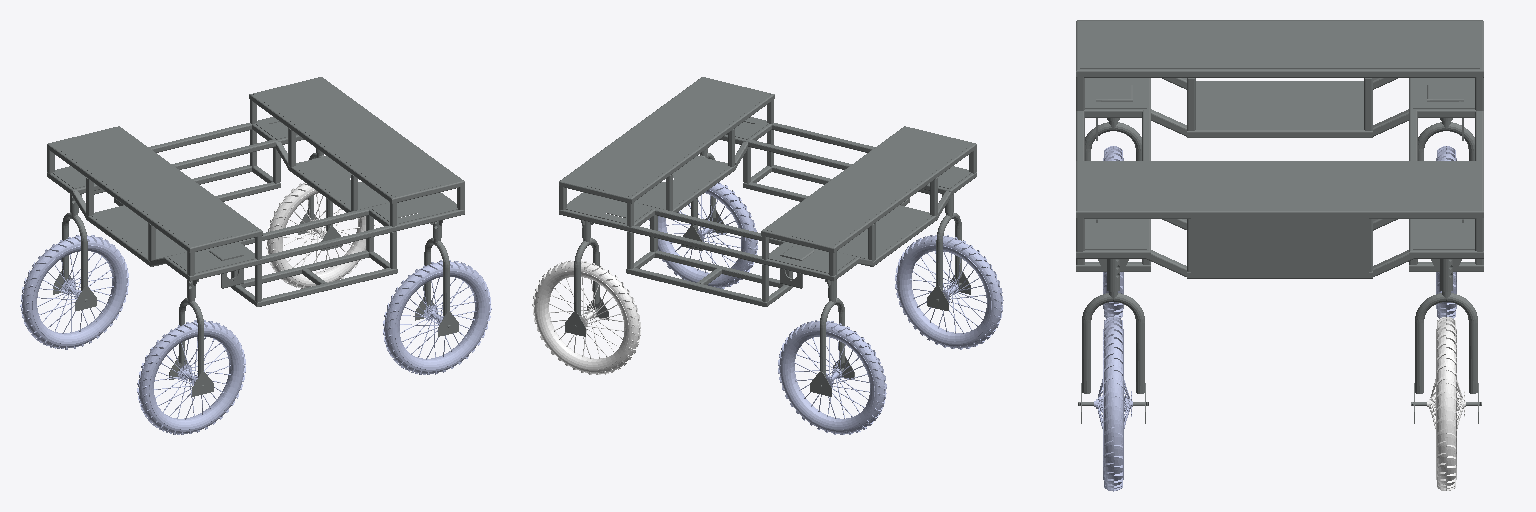
robot.urdf — agribot_describtion:
<?xml version="1.0" encoding="utf-8"?>
<!-- This URDF was automatically created by SolidWorks to URDF Exporter! Originally created by [author] ([email redacted]) 
     Commit Version: 1.6.0-1-g15f4949  Build Version: 1.6.7594.29634
     For more information, please see http://wiki.ros.org/sw_urdf_exporter -->
<robot name="agribot_describtion">

<!--gazebo colors-->
    <gazebo reference="Agribot_base_link">
        <material>Gazebo/Silver</material>
    </gazebo>
    <gazebo reference="agribot_right_rear_Link">
        <material>Gazebo/Red</material>
    </gazebo>
        <gazebo reference="agribot_left_rear_Link">
        <material>Gazebo/Red</material>
    </gazebo>
        <gazebo reference="agribot_right_front_Link">
        <material>Gazebo/Red</material>
    </gazebo>
        <gazebo reference="agribot_left_front_Link">
        <material>Gazebo/Red</material>
    </gazebo>
  <!--/dummy joint/-->
  <joint name="Agribot_base_joint" type="fixed">
    <origin xyz="0.0 0.0 0.45" rpy="0.0 0.0 0.0"/>
    <parent link="base_footprint"/>
    <child link="Agribot_base_link"/>
  </joint>
  <!--dummy link-->
  <link name="base_footprint"/>
  <link name="Agribot_base_link">
    <inertial>
      <origin xyz="-0.00172028527131218 2.15063398465443E-05 0.0648243841049334" rpy="0 0 0" />
      <mass value="34.053104349233" />
      <inertia ixx="0.398698477798669" ixy="1.14030691802359E-05" ixz="1.59657469624218E-08" iyy="0.199647033956459" iyz="-7.80794841072498E-10" izz="0.452444337464452" />
    </inertial>
    <visual>
      <origin xyz="0 0 0" rpy="0 0 0" />
      <geometry>
        <mesh filename="package://agribot_describtion/meshes/Agribot_base_link.STL" />
      </geometry>
      <material name="">
        <color rgba="0.529411764705882 0.549019607843137 0.549019607843137 1" />
      </material>
    </visual>
    <collision>
      <origin xyz="0 0 0" rpy="0 0 0" />
      <geometry>
        <mesh filename="package://agribot_describtion/meshes/Agribot_base_link.STL" />
      </geometry>
    </collision>
  </link>
  <link name="agribot_right_rear_Link">
    <inertial>
      <origin xyz="1.7532E-06 2.4712E-06 -0.00011975" rpy="0 0 0" />
      <mass value="2.0263" />
      <inertia ixx="0.028944" ixy="1.8507E-07" ixz="4.3157E-08" iyy="0.028944" iyz="2.9252E-08" izz="0.057268" />
    </inertial>
    <visual>
      <origin xyz="0 0 0" rpy="0 0 0" />
      <geometry>
        <mesh filename="package://agribot_describtion/meshes/agribot_right_rear_Link.STL" />
      </geometry>
      <material name="">
        <color rgba="0.79216 0.81961 0.93333 1" />
      </material>
    </visual>
    <collision>
      <origin xyz="0 0 0" rpy="0 0 0" />
      <geometry>
        <mesh filename="package://agribot_describtion/meshes/agribot_right_rear_Link.STL" />
      </geometry>
    </collision>
  </link>
  <joint name="agribot_right_rear_joint" type="continuous">
    <origin xyz="-0.44777 -0.37497 -0.27235" rpy="1.5708 0 0" />
    <parent link="Agribot_base_link" />
    <child link="agribot_right_rear_Link" />
    <axis xyz="0 0 -1" />
  </joint>
  <link name="agribot_left_rear_Link">
    <inertial>
      <origin xyz="2.8502E-06 1.0273E-06 -0.00011975" rpy="0 0 0" />
      <mass value="2.0263" />
      <inertia ixx="0.028945" ixy="1.2849E-07" ixz="5.2131E-08" iyy="0.028944" iyz="-6.5352E-10" izz="0.057268" />
    </inertial>
    <visual>
      <origin xyz="0 0 0" rpy="0 0 0" />
      <geometry>
        <mesh filename="package://agribot_describtion/meshes/agribot_left_rear_Link.STL" />
      </geometry>
      <material name="">
        <color rgba="0.79216 0.81961 0.93333 1" />
      </material>
    </visual>
    <collision>
      <origin xyz="0 0 0" rpy="0 0 0" />
      <geometry>
        <mesh filename="package://agribot_describtion/meshes/agribot_left_rear_Link.STL" />
      </geometry>
    </collision>
  </link>
  <joint name="agribot_left_rear_joint" type="continuous">
    <origin xyz="-0.44777 0.37503 -0.27235" rpy="1.5708 0 0" />
    <parent link="Agribot_base_link" />
    <child link="agribot_left_rear_Link" />
    <axis xyz="0 0 -1" />
  </joint>
  <link name="agribot_right_front_Link">
    <inertial>
      <origin xyz="8.8543E-07 2.8971E-06 -0.00011975" rpy="0 0 0" />
      <mass value="2.0263" />
      <inertia ixx="0.028944" ixy="1.0742E-07" ixz="3.1759E-08" iyy="0.028945" iyz="4.1353E-08" izz="0.057268" />
    </inertial>
    <visual>
      <origin xyz="0 0 0" rpy="0 0 0" />
      <geometry>
        <mesh filename="package://agribot_describtion/meshes/agribot_right_front_Link.STL" />
      </geometry>
      <material name="">
        <color rgba="0.79216 0.81961 0.93333 1" />
      </material>
    </visual>
    <collision>
      <origin xyz="0 0 0" rpy="0 0 0" />
      <geometry>
        <mesh filename="package://agribot_describtion/meshes/agribot_right_front_Link.STL" />
      </geometry>
    </collision>
  </link>
  <joint name="agribot_right_front_joint" type="continuous">
    <origin xyz="0.46223 -0.37497 -0.27235" rpy="1.5708 0 0" />
    <parent link="Agribot_base_link" />
    <child link="agribot_right_front_Link" />
    <axis xyz="0 0 -1" />
  </joint>
  <link name="agribot_left_front_Link">
    <inertial>
      <origin xyz="8.8543E-07 2.8971E-06 -0.00011975" rpy="0 0 0" />
      <mass value="2.0263" />
      <inertia ixx="0.028944" ixy="1.0742E-07" ixz="3.1759E-08" iyy="0.028945" iyz="4.1353E-08" izz="0.057268" />
    </inertial>
    <visual>
      <origin xyz="0 0 0" rpy="0 0 0" />
      <geometry>
        <mesh filename="package://agribot_describtion/meshes/agribot_left_front_Link.STL" />
      </geometry>
      <material name="">
        <color rgba="1 1 1 1" />
      </material>
    </visual>
    <collision>
      <origin xyz="0 0 0" rpy="0 0 0" />
      <geometry>
        <mesh filename="package://agribot_describtion/meshes/agribot_left_front_Link.STL" />
      </geometry>
    </collision>
  </link>
  <joint name="agribot_left_front_joint" type="continuous">
    <origin xyz="0.46223 0.37503 -0.27235" rpy="1.5708 0 0" />
    <parent link="Agribot_base_link" />
    <child link="agribot_left_front_Link" />
    <axis xyz="0 0 -1" />
  </joint>
  <!--diff drive for rear whheels-->
  <gazebo>
    <plugin name="differential_drive_controller" filename="libgazebo_ros_diff_drive.so">
      <updateRate>40</updateRate>
      <leftJoint>agribot_left_front_joint</leftJoint>
      <rightJoint>agribot_right_front_joint</rightJoint>
      <wheelSeparation>0.9</wheelSeparation>
      <wheelDiameter>0.35</wheelDiameter>
      <wheelAcceleration>1.0</wheelAcceleration>
      <wheelTorque>78</wheelTorque>
      <publishOdomTF>true</publishOdomTF>
      <commandTopic>cmd_vel</commandTopic>
      <odometryTopic>odom</odometryTopic>
      <odometryFrame>odom</odometryFrame>
      <robotBaseFrame>base_footprint</robotBaseFrame>
      <odometrySource>1</odometrySource>
      <publishWheelTF>false</publishWheelTF>
      <publishOdom>true</publishOdom>
      <publishWheelJointState>true</publishWheelJointState>
      <legacyMode>false</legacyMode>
    </plugin> 

    <plugin name="differential_drive_controller" filename="libgazebo_ros_diff_drive.so">
      <updateRate>40</updateRate>
      <leftJoint>agribot_left_rear_joint</leftJoint>
      <rightJoint>agribot_right_rear_joint</rightJoint>
      <wheelSeparation>0.9</wheelSeparation>
      <wheelDiameter>0.35</wheelDiameter>
      <wheelAcceleration>1.0</wheelAcceleration>
      <wheelTorque>78</wheelTorque>
      <publishOdomTF>true</publishOdomTF>
      <commandTopic>cmd_vel</commandTopic>
      <odometryTopic>odom</odometryTopic>
      <odometryFrame>odom</odometryFrame>
      <robotBaseFrame>base_footprint</robotBaseFrame>
      <odometrySource>1</odometrySource>
      <publishWheelTF>false</publishWheelTF>
      <publishOdom>true</publishOdom>
      <publishWheelJointState>true</publishWheelJointState>
      <legacyMode>false</legacyMode>
    </plugin>
  </gazebo>
</robot>

--- What the picture shows (computed from the rendered views, not written in the file) ---
Views: 3 orthographic renders of the robot side by side, from view 1: azimuth 30°, elevation 25°; view 2: azimuth 150°, elevation 25°; view 3: azimuth 270°, elevation 25°.
Model agribot_describtion with 6 links and 5 joints (4 continuous, 1 fixed), rooted at base_footprint, posed every joint at zero.
Visible links, largest first — view 1: Agribot_base_link, agribot_right_rear_Link, agribot_right_front_Link, agribot_left_rear_Link, agribot_left_front_Link; view 2: Agribot_base_link, agribot_left_rear_Link, agribot_left_front_Link, agribot_right_rear_Link, agribot_right_front_Link; view 3: Agribot_base_link, agribot_right_front_Link, agribot_left_front_Link, agribot_right_rear_Link, agribot_left_rear_Link.
Boxes of the visible links, x1,y1,x2,y2 form: Agribot_base_link: (47, 77, 464, 396); agribot_right_rear_Link: (137, 320, 245, 434); agribot_right_front_Link: (383, 260, 491, 374); agribot_left_rear_Link: (20, 235, 128, 349); agribot_left_front_Link: (266, 183, 374, 288); Agribot_base_link: (559, 77, 976, 396); agribot_left_rear_Link: (778, 320, 886, 434); agribot_left_front_Link: (532, 260, 640, 374); agribot_right_rear_Link: (895, 235, 1003, 349); agribot_right_front_Link: (649, 182, 757, 288); Agribot_base_link: (1076, 20, 1483, 423); agribot_right_front_Link: (1094, 317, 1132, 491); agribot_left_front_Link: (1427, 317, 1465, 490); agribot_right_rear_Link: (1103, 146, 1123, 318); agribot_left_rear_Link: (1436, 146, 1456, 318).
Size in the robot's own frame: 1.3 by 0.92 by 0.7023 metres.
5 mesh visuals loaded from 5 distinct referenced files (5 binary STL).
